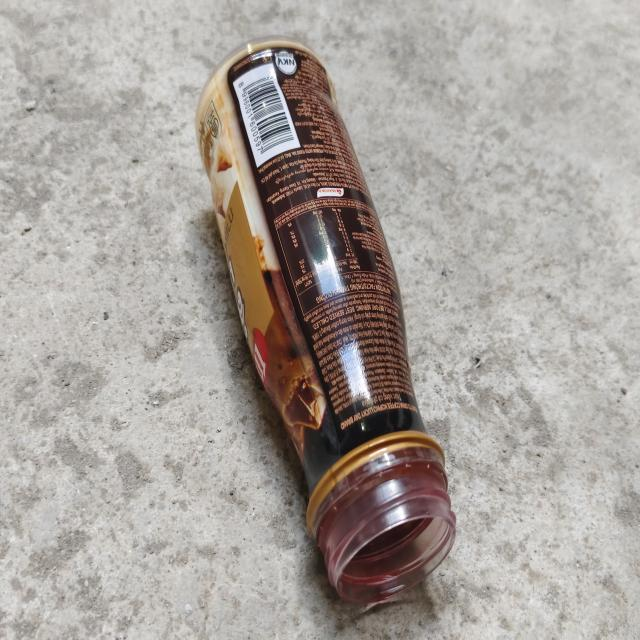Bottle: (196, 39, 456, 606)
